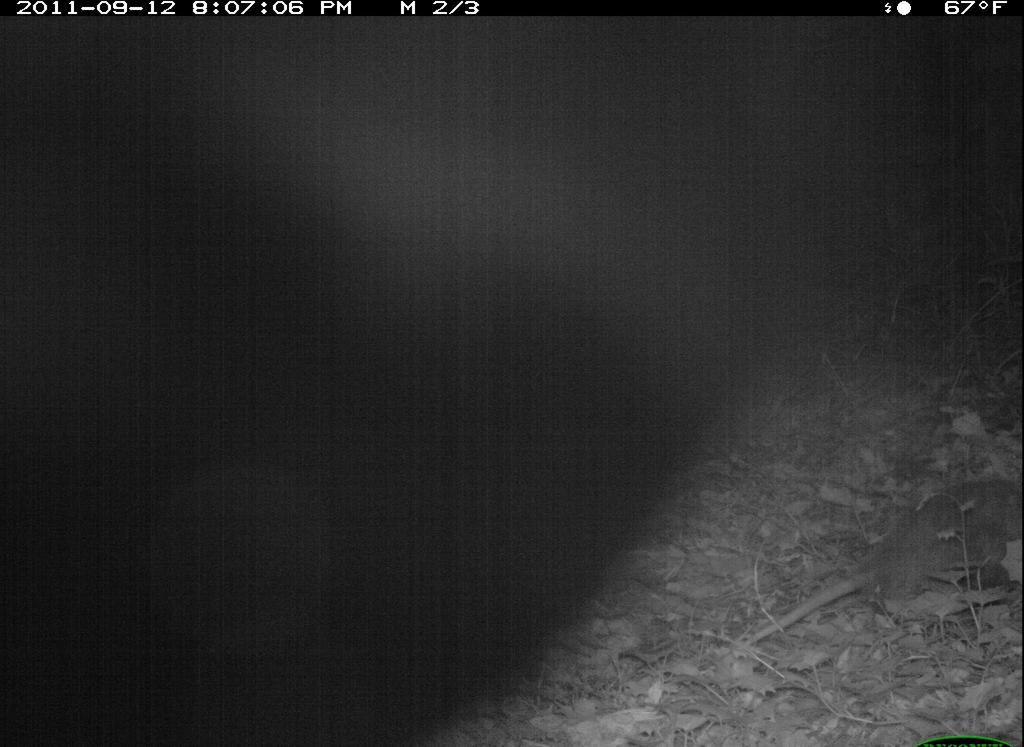opossum: (726, 472, 1023, 667)
